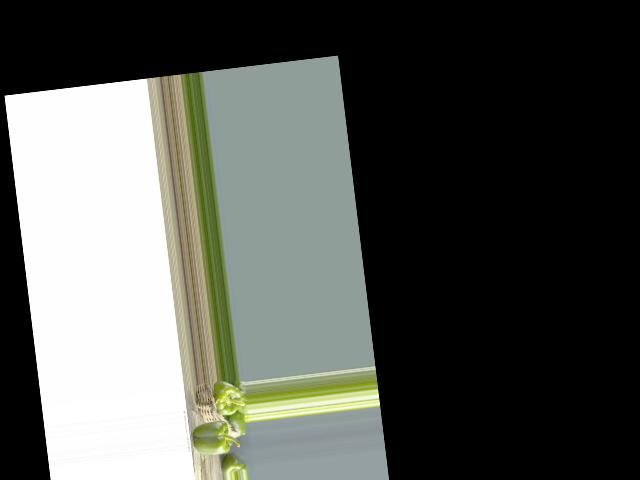bell_pepper: (224, 457, 246, 473)
